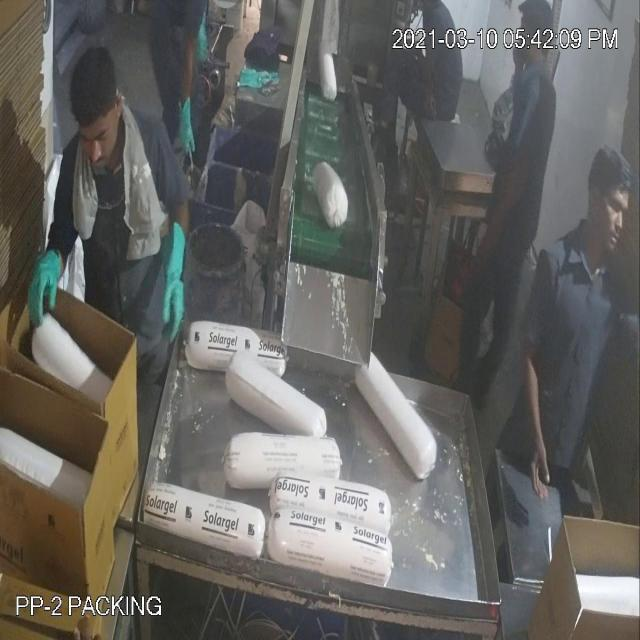Gloves: (29, 84, 538, 428)
